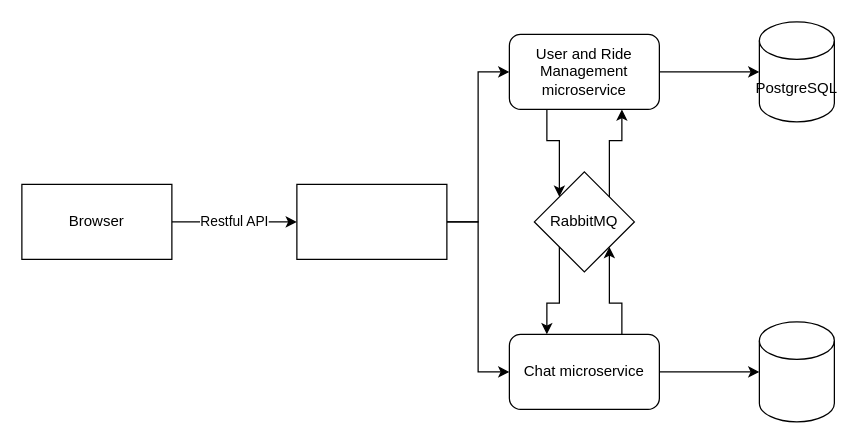
The diagram is 859 pixels wide and 444 high, and some of its shapes have lost their labels. The shapes that lost their labels are listed below. From the top down, each one's centre as x and y in pixels, then its label:
(371,221): API Gateway
(796,371): MongoDB
